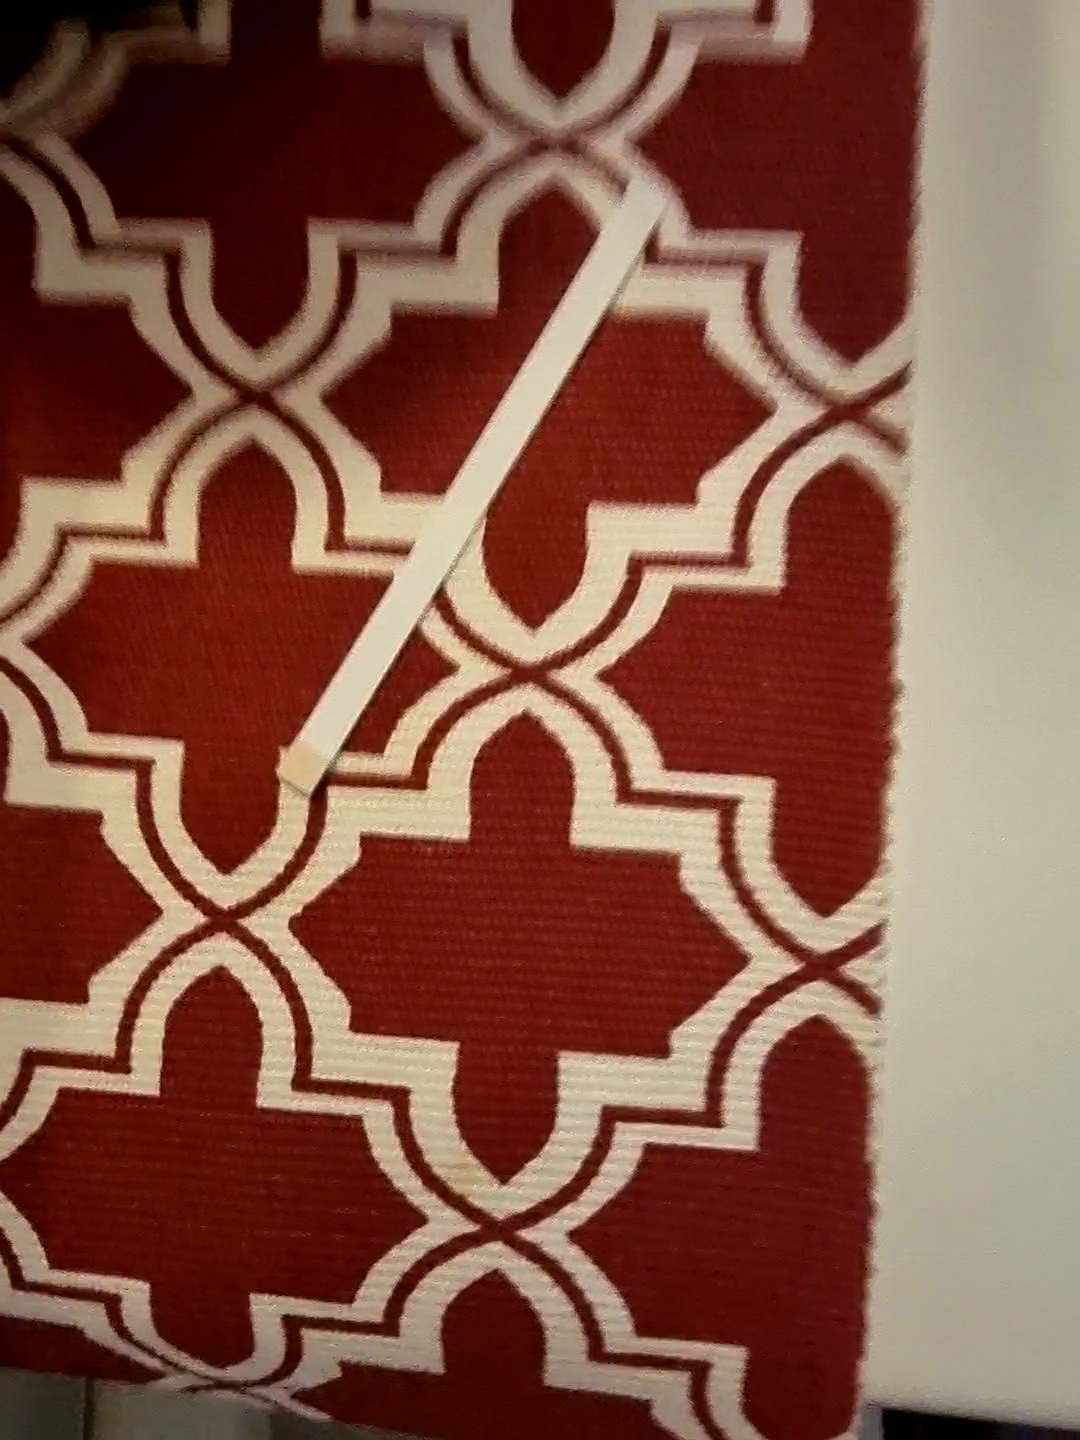keto-tip: (272, 737, 341, 801)
